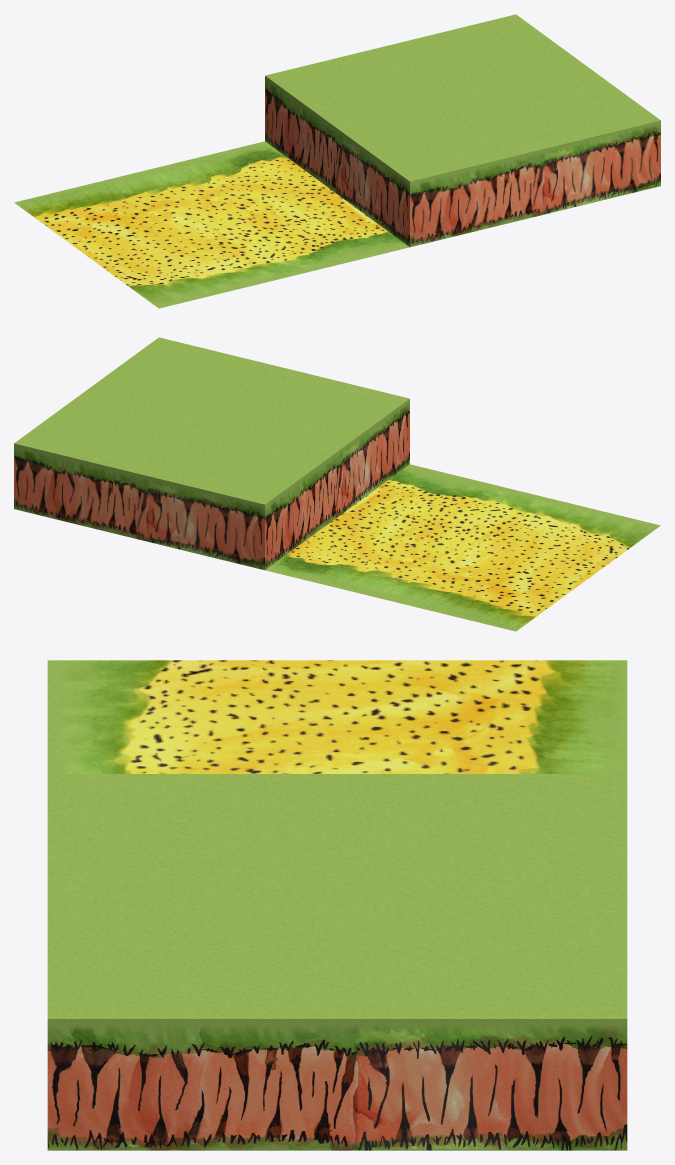
The model's file is tiles.glb.
The picture shows the model from 3 angles, top to bottom: view 1: azimuth 30°, elevation 25°; view 2: azimuth 150°, elevation 25°; view 3: azimuth 270°, elevation 25°; orthographic projection. The views are drawn at different scales.
Visible parts, largest first — view 1: TileCliff, TilePath; view 2: TileCliff, TilePath; view 3: TileCliff, TilePath.
Part boxes in pixels (bbox=[...]): TileCliff: bbox=[265, 14, 660, 247]; TilePath: bbox=[14, 141, 409, 308]; TileCliff: bbox=[14, 337, 409, 570]; TilePath: bbox=[265, 464, 660, 631]; TileCliff: bbox=[47, 774, 627, 1150]; TilePath: bbox=[47, 660, 627, 773].
Bounding box in the file's own units: 4 × 0.5 × 2.
1 material, 1 textured.
